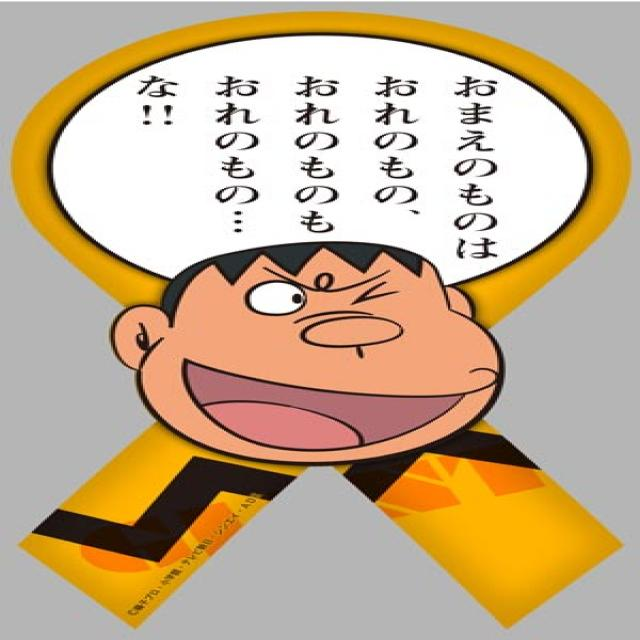jaian: (85, 239, 559, 471)
